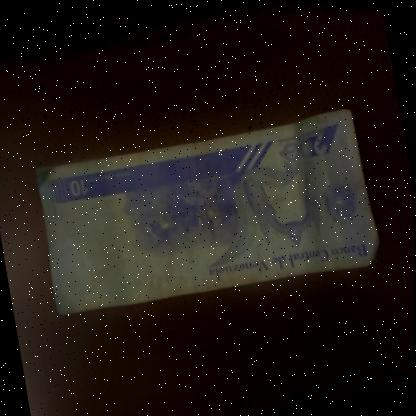ten-back-vef: (30, 103, 384, 319)
